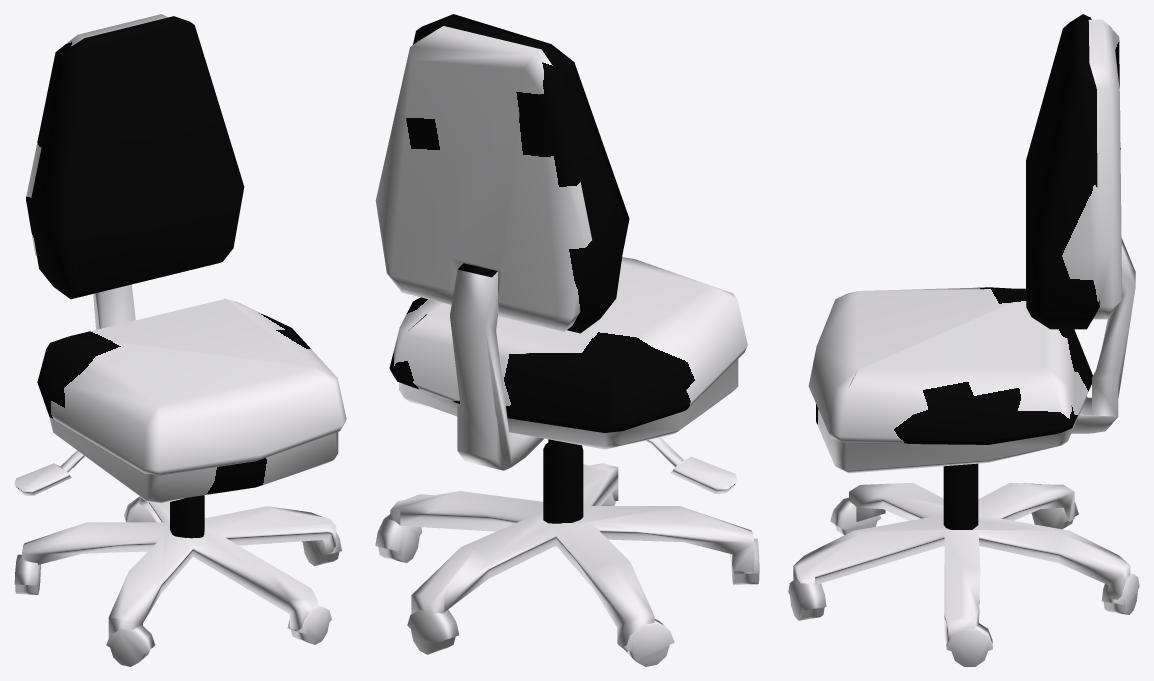
The model's file is Cadeira.fbx.
3 renders of one model, left to right at view 1: azimuth 30°, elevation 25°; view 2: azimuth 150°, elevation 25°; view 3: azimuth 270°, elevation 25°, orthographic. The views are drawn at different scales.
Parts seen in each view (by area): view 1: OfficeChair_Mesh; view 2: OfficeChair_Mesh; view 3: OfficeChair_Mesh.
Boxes of the visible parts, x1,y1,x2,y2 form: OfficeChair_Mesh: (14, 14, 346, 666); OfficeChair_Mesh: (375, 14, 759, 666); OfficeChair_Mesh: (788, 14, 1139, 666).
Size of the model in its own units: 114 by 189 by 108.
